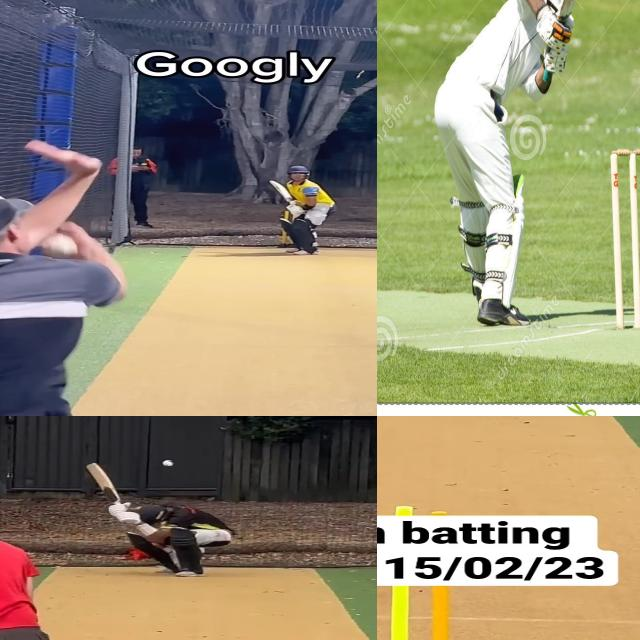Cricket ball: (44, 231, 78, 259), (162, 460, 174, 466)
Stumps: (609, 146, 640, 329), (377, 587, 465, 640)
